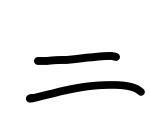eqv: (26, 51, 146, 104)
